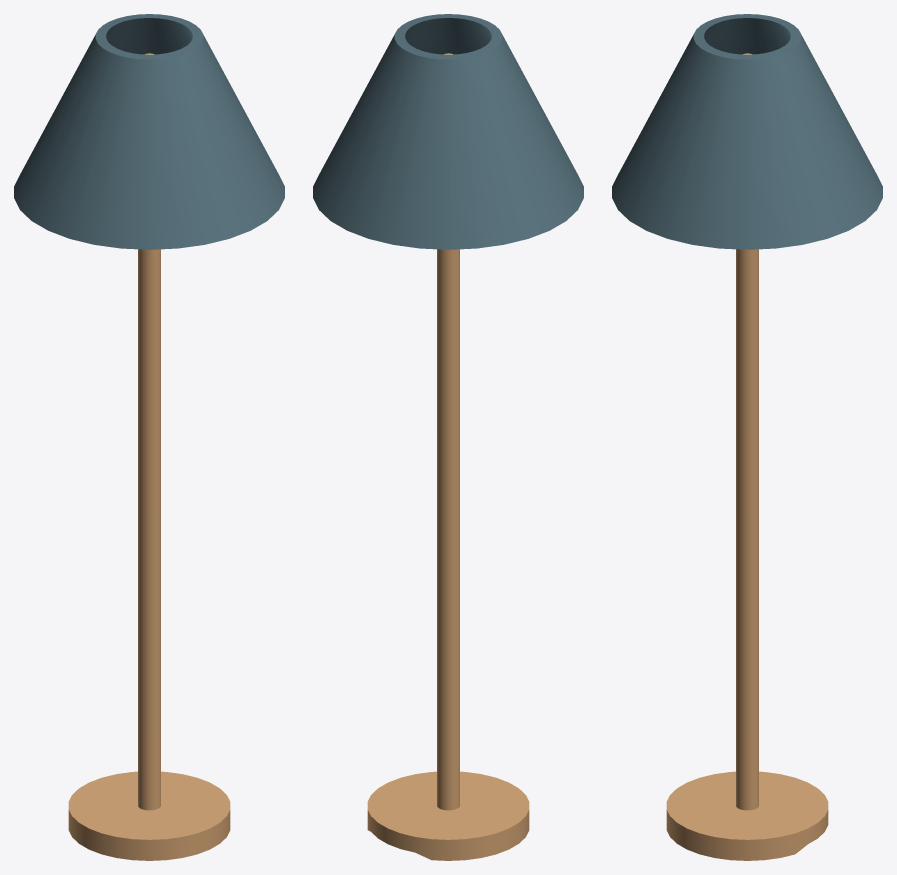
Rendered from FloorLamp.fbx.
The picture shows the model from 3 angles, left to right: view 1: azimuth 30°, elevation 25°; view 2: azimuth 150°, elevation 25°; view 3: azimuth 270°, elevation 25°; orthographic projection.
Visible parts, largest first — view 1: FloorLamp_stanick; view 2: FloorLamp_stanick; view 3: FloorLamp_stanick.
Boxes of the visible parts, <box> form: FloorLamp_stanick: <box>14,14,284,860</box>; FloorLamp_stanick: <box>313,14,583,860</box>; FloorLamp_stanick: <box>612,14,882,860</box>.
Size of the model in its own units: 468 by 466 by 1500.
